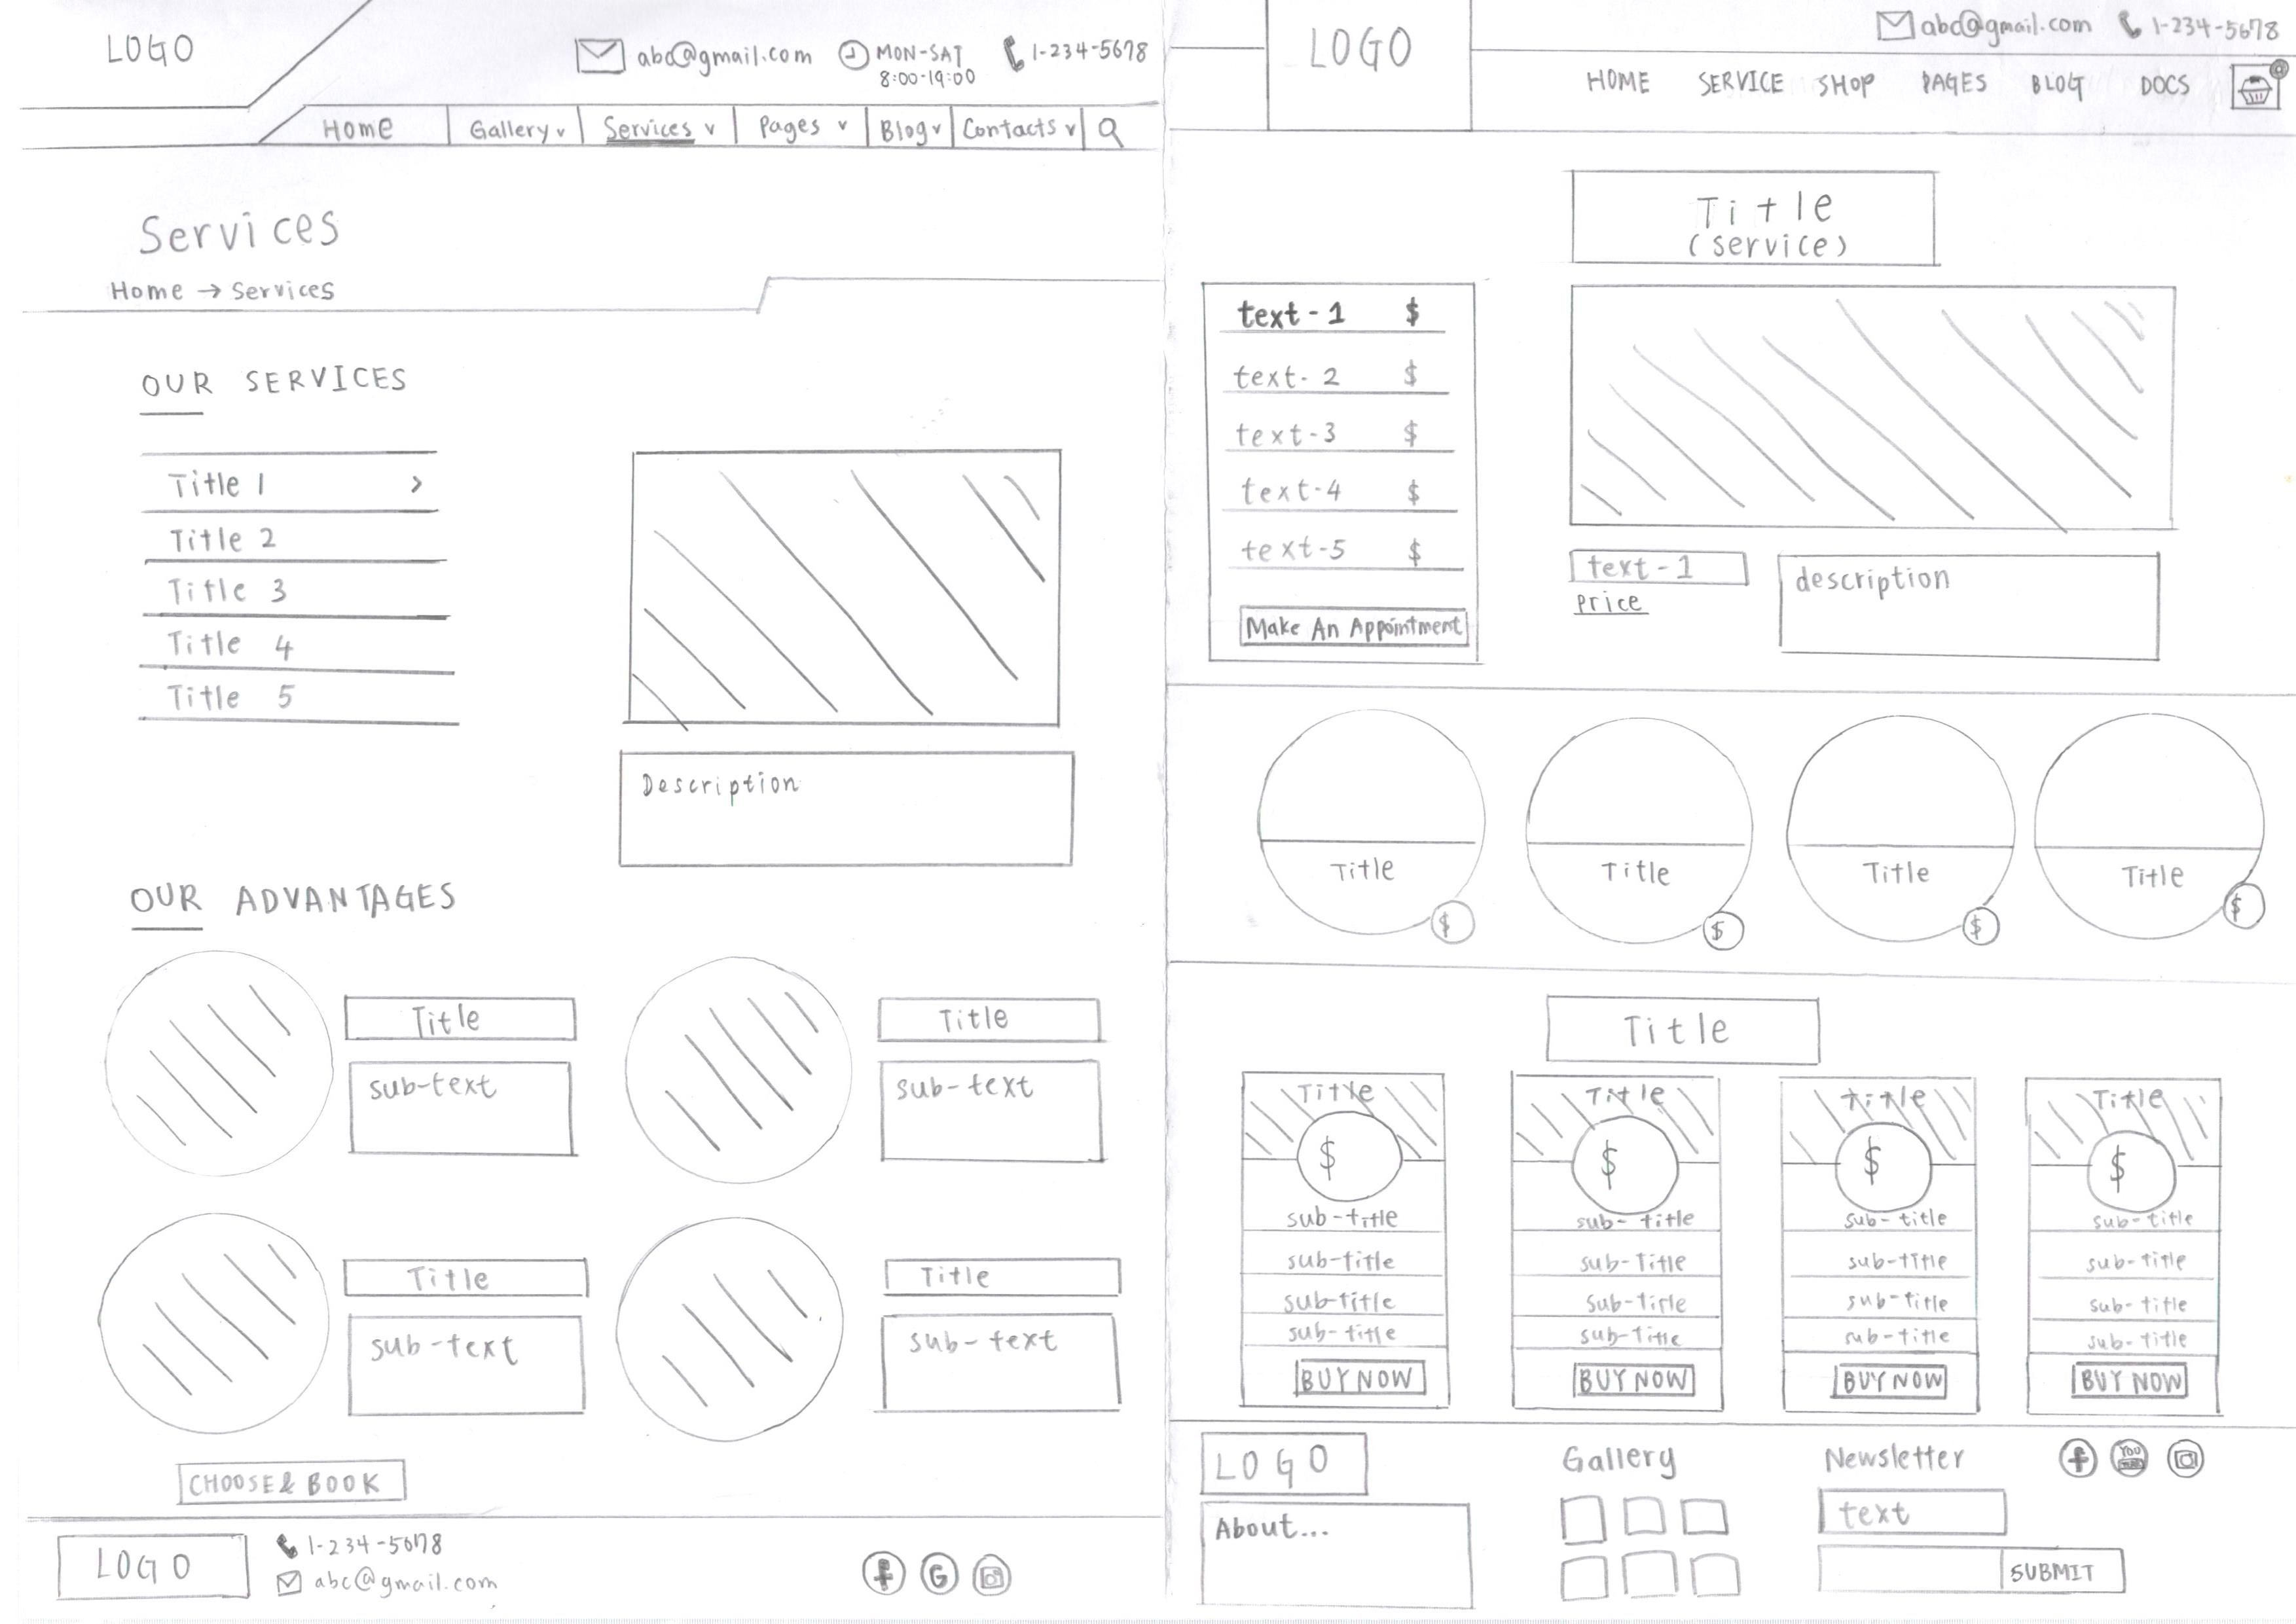btn-active: (49, 526, 390, 589), (396, 529, 731, 589)
text: (162, 221, 348, 292), (158, 116, 348, 179), (58, 406, 301, 453), (610, 130, 733, 178), (614, 239, 721, 290), (60, 334, 192, 371), (601, 339, 733, 374), (62, 51, 160, 95), (411, 339, 515, 378), (69, 475, 163, 510), (614, 79, 701, 116), (434, 72, 505, 107), (74, 0, 155, 26)
